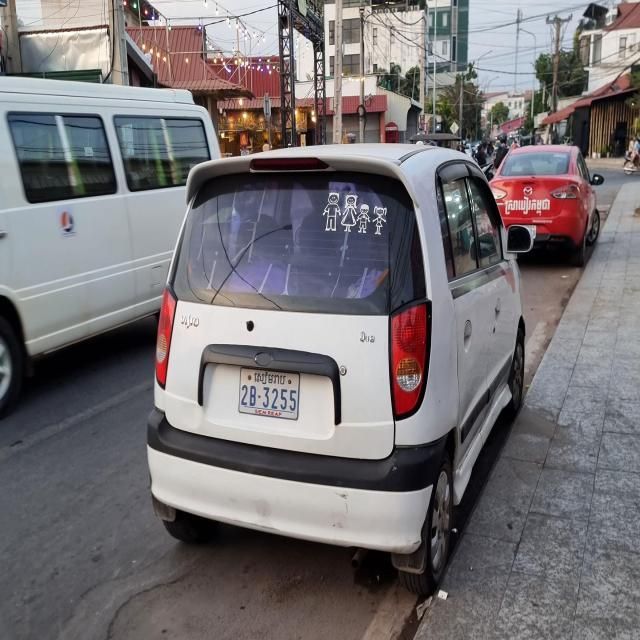Siem_Reap: (252, 369, 288, 388)
